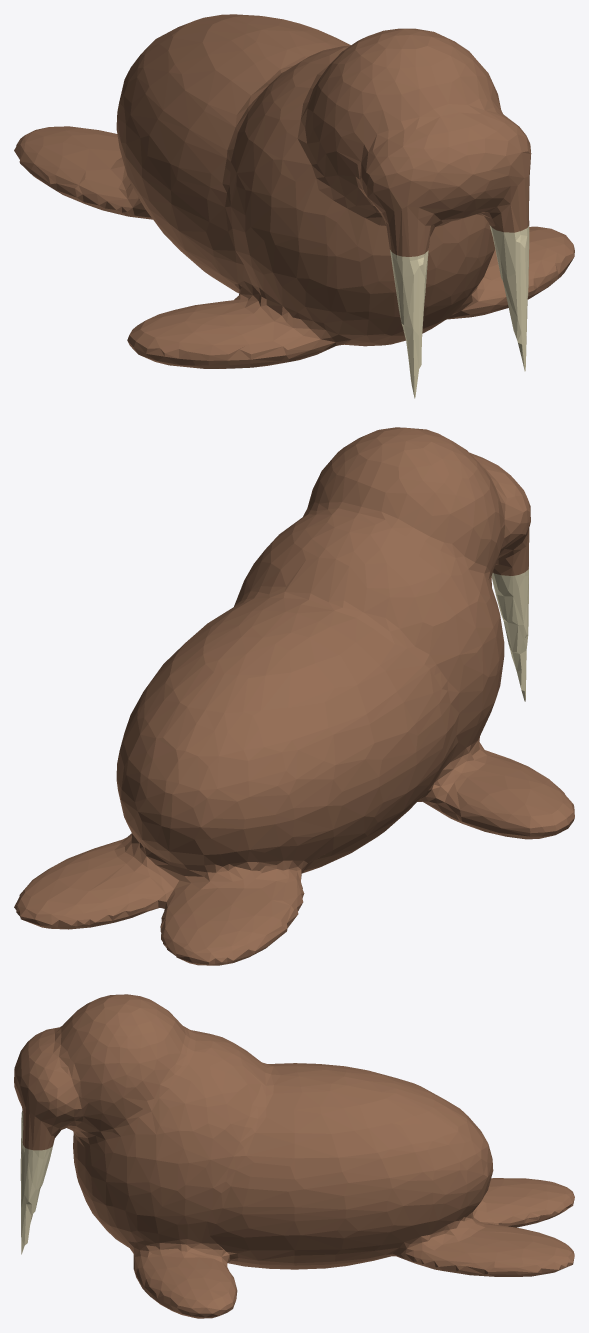
File: NEW_RECOVERY_045_LOD0.glb
3 renders of one model, top to bottom at view 1: azimuth 30°, elevation 25°; view 2: azimuth 150°, elevation 25°; view 3: azimuth 270°, elevation 25°, orthographic. The views are drawn at different scales.
Parts seen in each view (by area): view 1: WholeWalrus; view 2: WholeWalrus; view 3: WholeWalrus.
Boxes of the visible parts, x1,y1,x2,y2 form: WholeWalrus: (14, 14, 574, 398); WholeWalrus: (14, 427, 574, 965); WholeWalrus: (14, 994, 574, 1318).
Bounding box in the file's own units: 3.58 × 2.61 × 5.16.
